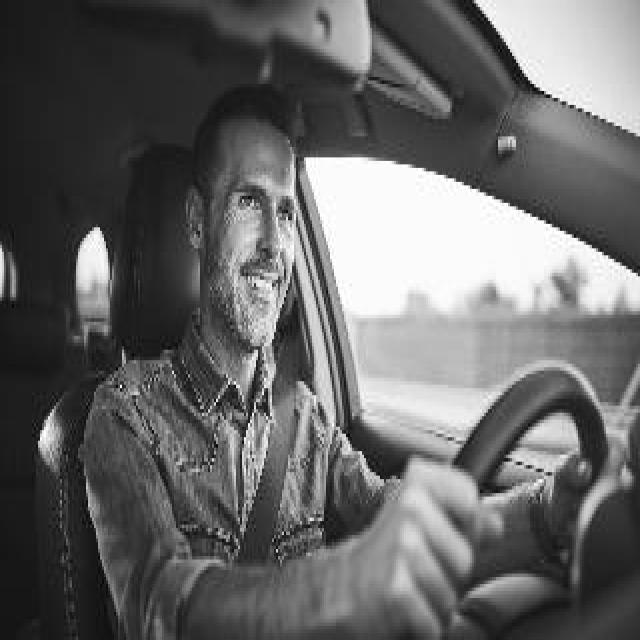Focused: (215, 142, 301, 355)
